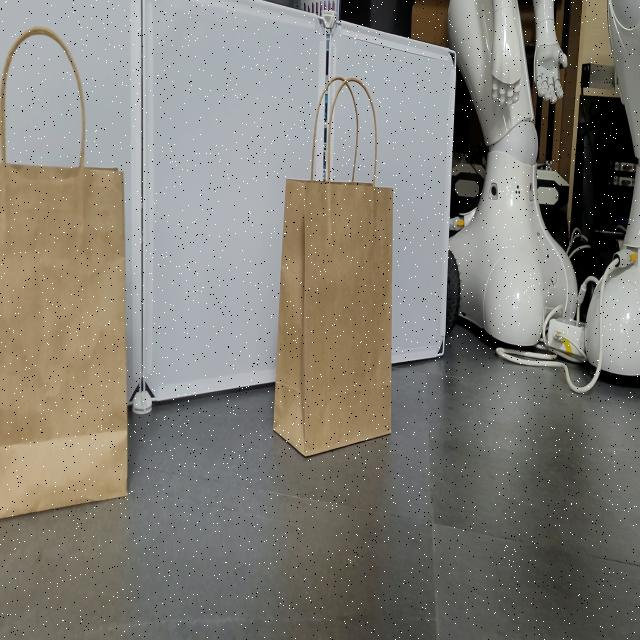paper bag: (0, 26, 128, 520), (271, 71, 395, 459)
